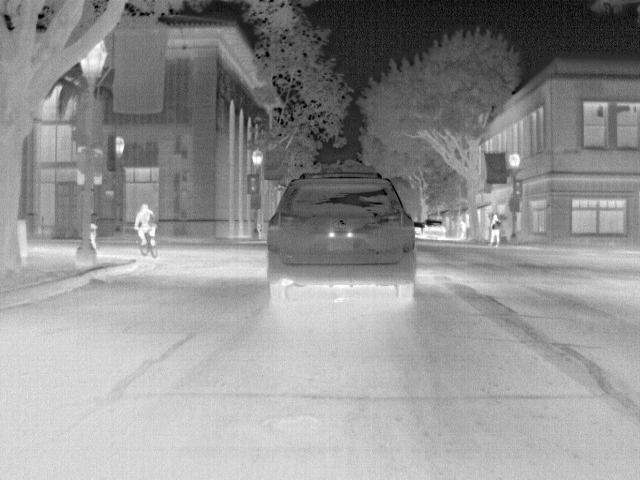car: (264, 171, 416, 298), (420, 219, 450, 240)
person: (132, 204, 160, 246), (488, 212, 506, 247)
